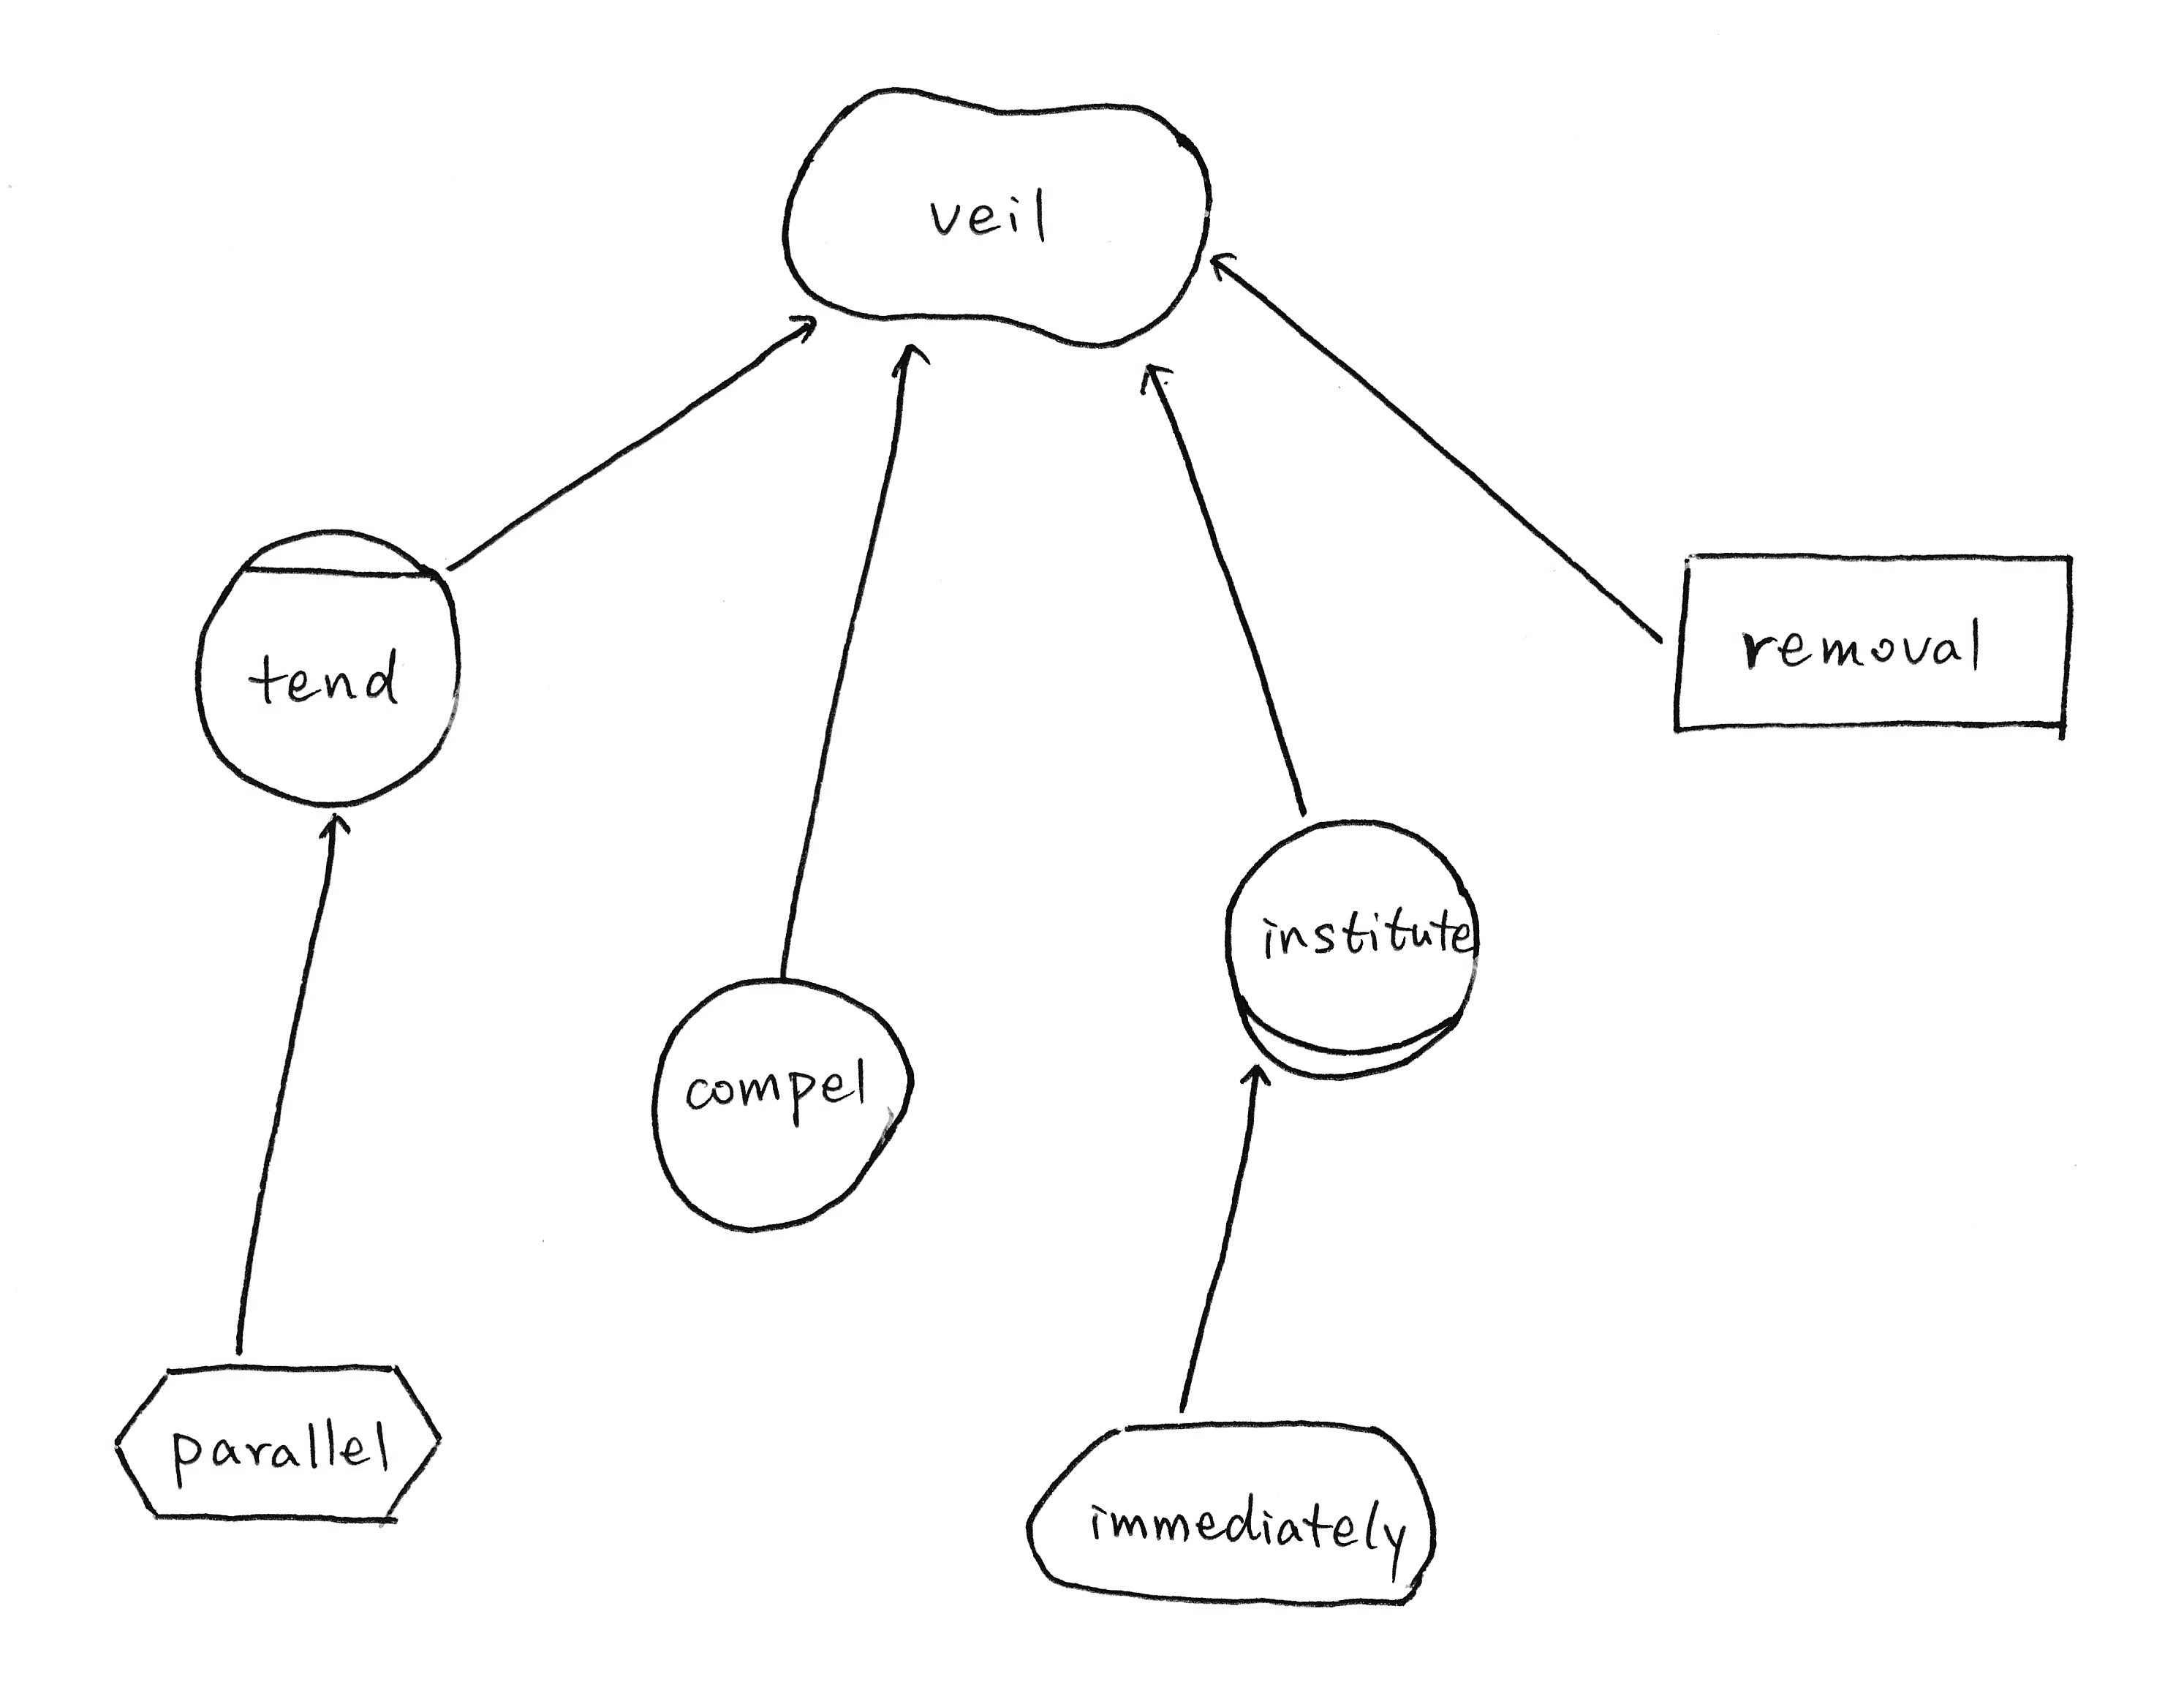actor: (632, 956, 929, 1244)
agent: (173, 512, 480, 827)
arrow: (1113, 343, 1195, 412), (773, 296, 841, 363), (299, 793, 361, 860), (1223, 1050, 1287, 1110), (880, 326, 934, 395), (1195, 227, 1250, 296)
goal: (1004, 1398, 1465, 1628)
quality: (761, 62, 1232, 366)
resource: (1646, 520, 2104, 750)
role: (1196, 798, 1497, 1101)
task: (97, 1347, 457, 1538)
